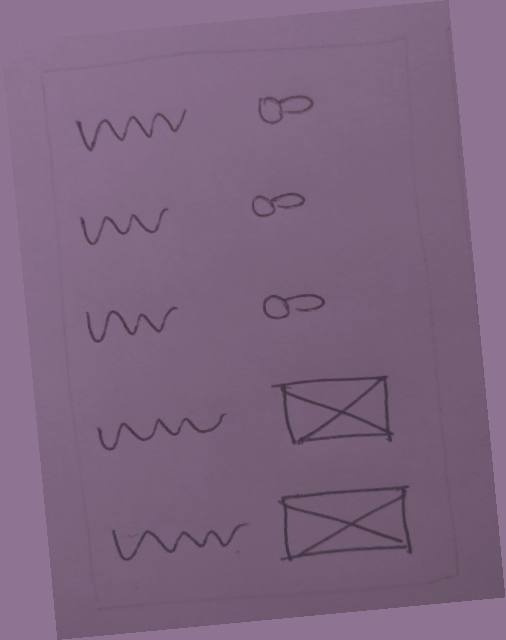image: (265, 472, 424, 575), (260, 358, 412, 461)
switch: (234, 174, 322, 230), (254, 277, 336, 330), (251, 81, 324, 131)
text: (101, 505, 261, 577), (85, 397, 247, 461), (69, 192, 182, 264), (69, 99, 197, 160), (78, 291, 187, 350)
